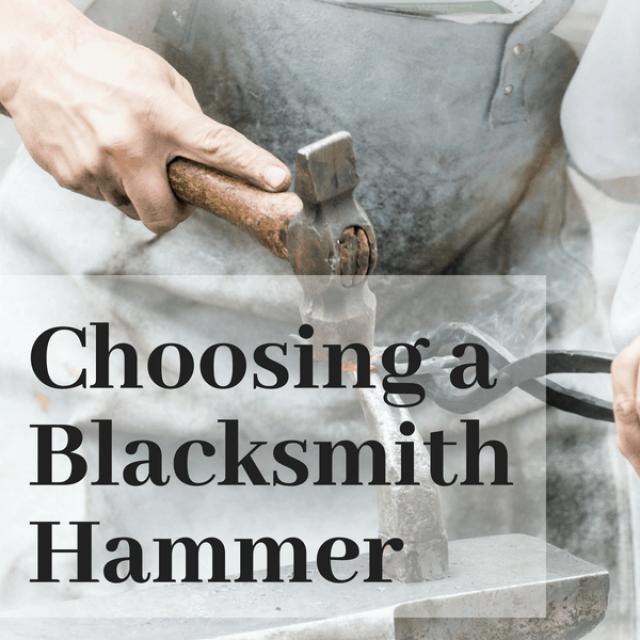hammer: (154, 132, 388, 384)
